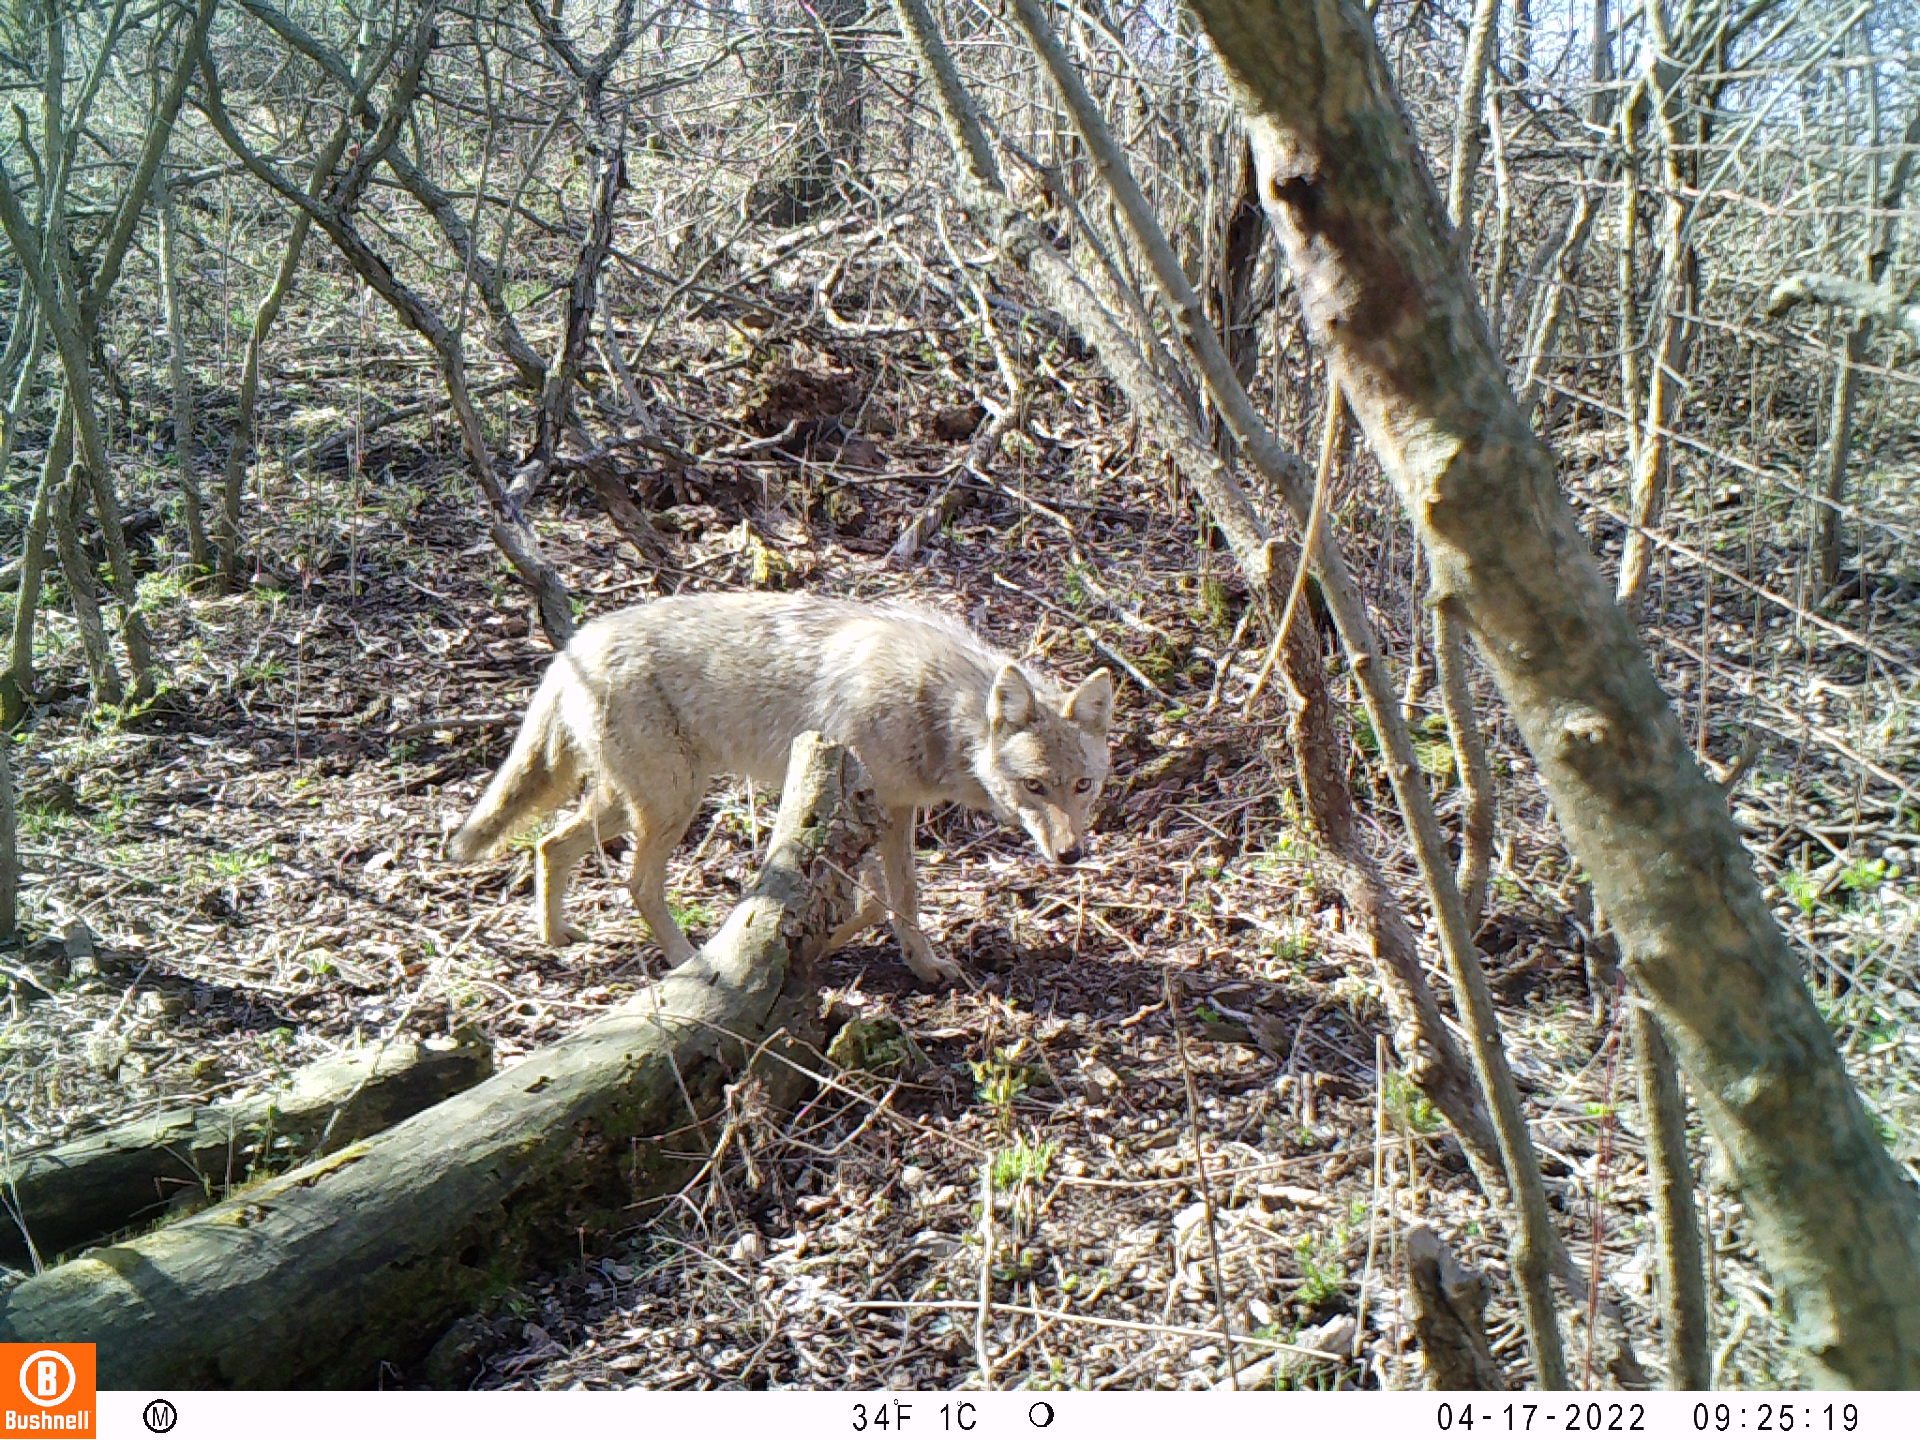Coyote: (446, 590, 1117, 976)
